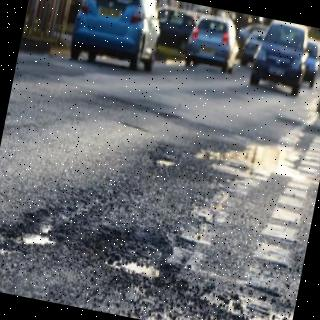pothole: (95, 234, 184, 293)
